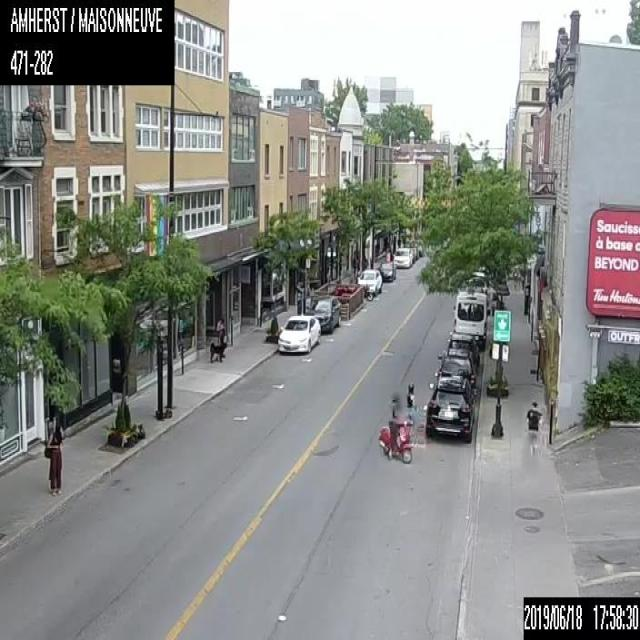pedestrian: (43, 417, 63, 496), (524, 399, 542, 456), (216, 317, 226, 363), (406, 379, 414, 418)
vehicle: (425, 374, 479, 440), (452, 290, 490, 345), (436, 347, 478, 391), (377, 412, 413, 463), (277, 314, 320, 352), (304, 295, 340, 333), (446, 332, 480, 364), (357, 268, 381, 293), (464, 270, 487, 294), (392, 246, 412, 268), (376, 260, 396, 281), (358, 282, 372, 299)
